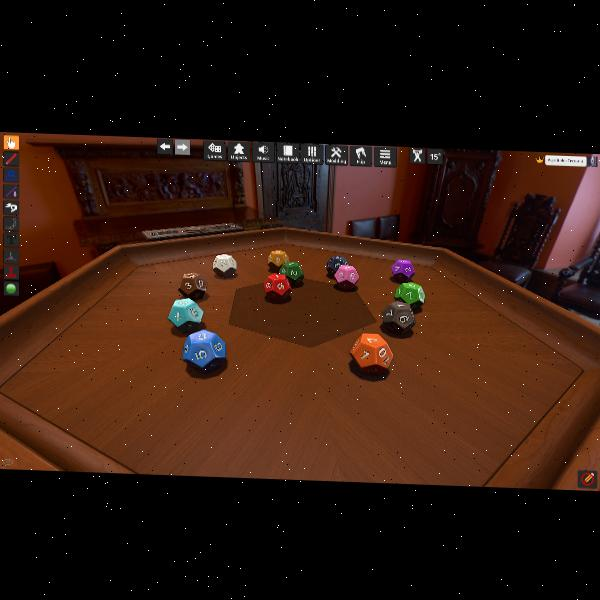d12: (183, 328, 228, 373), (350, 332, 392, 375), (168, 298, 204, 334), (382, 301, 416, 335), (394, 281, 426, 310), (178, 272, 208, 301), (264, 273, 290, 302), (334, 263, 358, 290), (213, 253, 237, 278), (391, 258, 415, 283), (282, 261, 305, 285), (326, 255, 347, 276), (268, 249, 288, 271)
